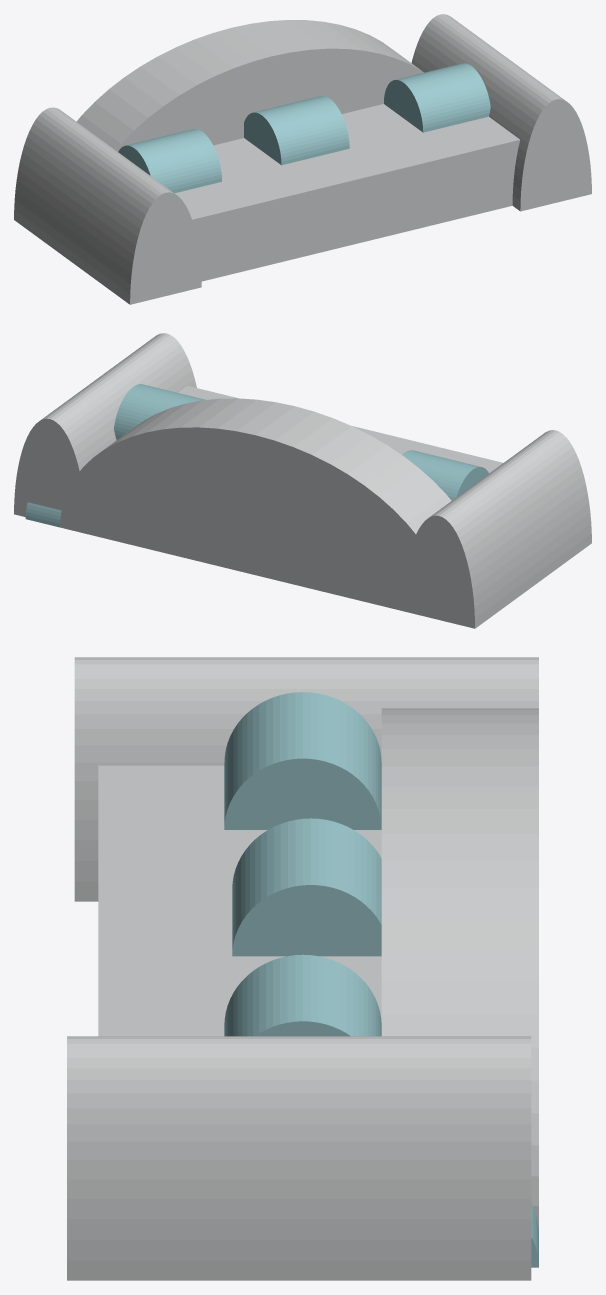
Rendered from Epic Amberis.glb.
The picture shows the model from 3 angles, top to bottom: view 1: azimuth 30°, elevation 25°; view 2: azimuth 150°, elevation 25°; view 3: azimuth 270°, elevation 25°; orthographic projection. The views are drawn at different scales.
Visible parts, largest first — view 1: Mesh_Mesh_head_geo.001_lambert2SG.001; view 2: Mesh_Mesh_head_geo.001_lambert2SG.001; view 3: Mesh_Mesh_head_geo.001_lambert2SG.001.
Boxes of the visible parts, bbox=[...] form: Mesh_Mesh_head_geo.001_lambert2SG.001: bbox=[14, 14, 591, 304]; Mesh_Mesh_head_geo.001_lambert2SG.001: bbox=[14, 333, 591, 628]; Mesh_Mesh_head_geo.001_lambert2SG.001: bbox=[67, 657, 538, 1280].
Size of the model in its own units: 0.135 by 0.039 by 0.06.
